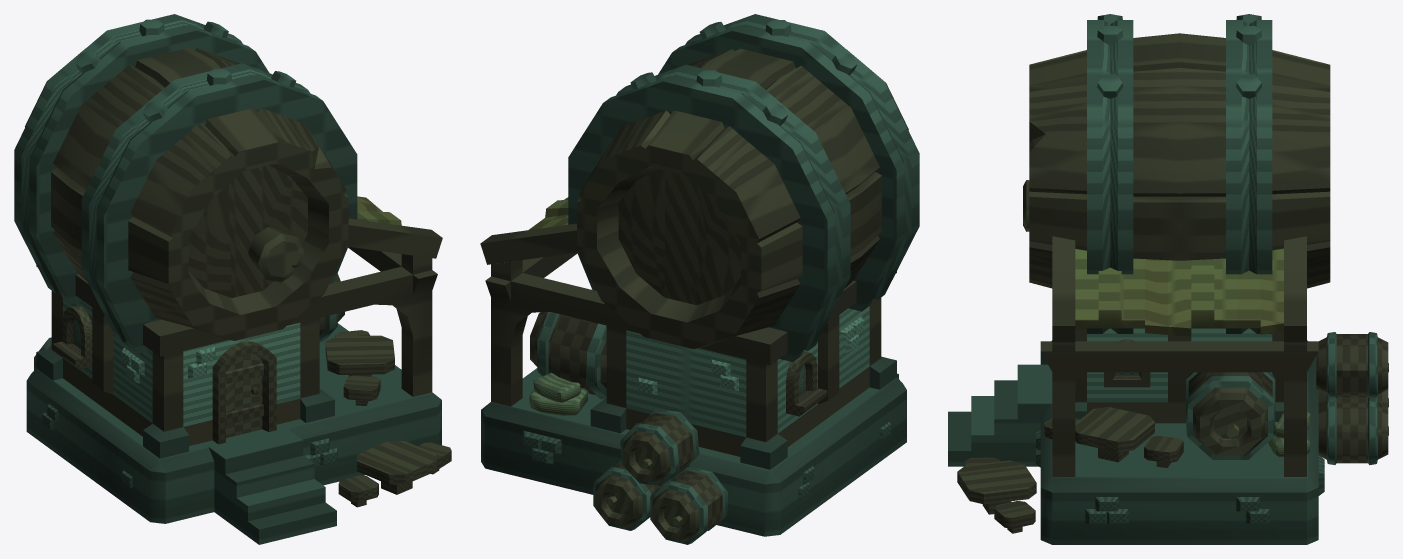
3 renders of one model, left to right at view 1: azimuth 30°, elevation 25°; view 2: azimuth 150°, elevation 25°; view 3: azimuth 270°, elevation 25°, orthographic. The views are drawn at different scales.
Parts seen in each view (by area): view 1: building_tavern_yellow; view 2: building_tavern_yellow; view 3: building_tavern_yellow.
Part boxes in pixels (bbox=[...]): building_tavern_yellow: bbox=[14, 14, 451, 544]; building_tavern_yellow: bbox=[480, 14, 919, 544]; building_tavern_yellow: bbox=[948, 14, 1388, 544].
Bounding box in the file's own units: 1.17 × 1.4 × 1.33.
Materials: 1 (1 with a texture image).
